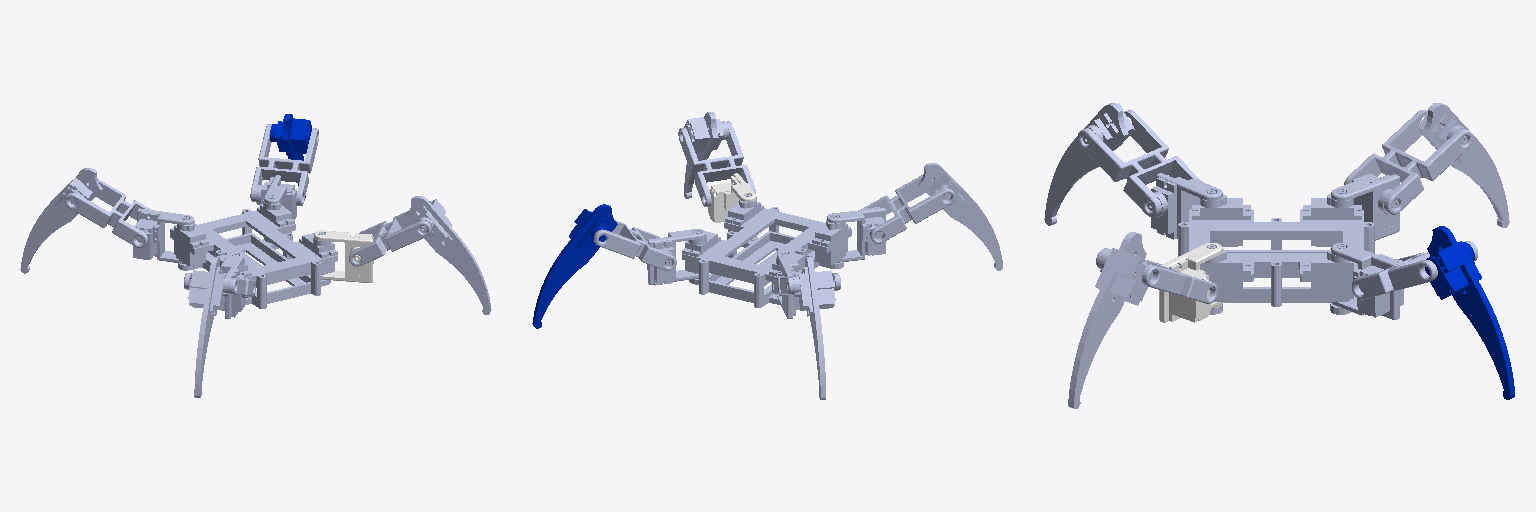
robot.urdf — spider1:
<?xml version="1.0" encoding="utf-8"?>
<!-- This URDF was automatically created by SolidWorks to URDF Exporter! Originally created by [author] ([email redacted]) 
     Commit Version: 1.6.0-4-g7f85cfe  Build Version: 1.6.7995.38578
     For more information, please see http://wiki.ros.org/sw_urdf_exporter -->
<robot
  name="spider1">
  <link
    name="base_link">
    <inertial>
      <origin
        xyz="0.0023278 0.00485 0.0023771"
        rpy="0 0 0" />
      <mass
        value="0.065616" />
      <inertia
        ixx="4.2481E-05"
        ixy="-5.904E-14"
        ixz="-3.5801E-22"
        iyy="2.1517E-05"
        iyz="1.9781E-09"
        izz="5.9904E-05" />
    </inertial>
    <visual>
      <origin
        xyz="0 0 0"
        rpy="0 0 0" />
      <geometry>
        <mesh
          filename="package://spider/meshes/base_link.STL" />
      </geometry>
      <material
        name="">
        <color
          rgba="0.79216 0.81961 0.93333 1" />
      </material>
    </visual>
    <collision>
      <origin
        xyz="0 0 0"
        rpy="0 0 0" />
      <geometry>
        <mesh
          filename="package://spider/meshes/base_link.STL" />
      </geometry>
    </collision>
  </link>
  <link
    name="f1">
    <inertial>
      <origin
        xyz="-0.018401 0.01659 0.003534"
        rpy="0 0 0" />
      <mass
        value="0.011831" />
      <inertia
        ixx="1.5646E-06"
        ixy="9.7054E-09"
        ixz="-3.045E-08"
        iyy="1.457E-06"
        iyz="-1.7785E-08"
        izz="1.0395E-06" />
    </inertial>
    <visual>
      <origin
        xyz="0 0 0"
        rpy="0 0 0" />
      <geometry>
        <mesh
          filename="package://spider/meshes/f1.STL" />
      </geometry>
      <material
        name="">
        <color
          rgba="0.79216 0.81961 0.93333 1" />
      </material>
    </visual>
    <collision>
      <origin
        xyz="0 0 0"
        rpy="0 0 0" />
      <geometry>
        <mesh
          filename="package://spider/meshes/f1.STL" />
      </geometry>
    </collision>
  </link>
  <joint
    name="f1_joint"
    type="revolute">
    <origin
      xyz="-0.033172 0.040513 0.0037238"
      rpy="0 0 0" />
    <parent
      link="base_link" />
    <child
      link="f1" />
    <axis
      xyz="0 0 -1" />
    <limit
      lower="-3.14"
      upper="3.14"
      effort="1"
      velocity="1" />
    <dynamics
      damping="1"
      friction="1" />
  </joint>
  <link
    name="f11">
    <inertial>
      <origin
        xyz="-0.00312800502450068 0.029304654512747 0.0109553755380737"
        rpy="0 0 0" />
      <mass
        value="0.00732061922605988" />
      <inertia
        ixx="1.89519682514823E-06"
        ixy="-4.81247392753302E-08"
        ixz="4.17488981091791E-07"
        iyy="1.90454664060193E-06"
        iyz="-4.74204996799255E-07"
        izz="3.0470393635977E-06" />
    </inertial>
    <visual>
      <origin
        xyz="0 0 0"
        rpy="0 0 0" />
      <geometry>
        <mesh
          filename="package://spider/meshes/f11.STL" />
      </geometry>
      <material
        name="">
        <color
          rgba="0.792156862745098 0.819607843137255 0.933333333333333 1" />
      </material>
    </visual>
    <collision>
      <origin
        xyz="0 0 0"
        rpy="0 0 0" />
      <geometry>
        <mesh
          filename="package://spider/meshes/f11.STL" />
      </geometry>
    </collision>
  </link>
  <joint
    name="f11_joint"
    type="revolute">
    <origin
      xyz="-0.03439 0.0063335 0.0084"
      rpy="0 0 0" />
    <parent
      link="f1" />
    <child
      link="f11" />
    <axis
      xyz="-0.74991 -0.66153 0" />
    <limit
      lower="-3.14"
      upper="3.14"
      effort="1"
      velocity="1" />
    <dynamics
      damping="1"
      friction="1" />
  </joint>
  <link
    name="f111">
    <inertial>
      <origin
        xyz="0.00700565537465488 0.0174495821523415 -0.0100072504512934"
        rpy="0 0 0" />
      <mass
        value="0.0131238915006959" />
      <inertia
        ixx="3.81248468902086E-06"
        ixy="4.89789117554809E-07"
        ixz="-1.09704738692261E-06"
        iyy="3.66531231134112E-06"
        iyz="1.33727196442167E-06"
        izz="1.95892271569825E-06" />
    </inertial>
    <visual>
      <origin
        xyz="0 0 0"
        rpy="0 0 0" />
      <geometry>
        <mesh
          filename="package://spider/meshes/f111.STL" />
      </geometry>
      <material
        name="">
        <color
          rgba="0.792156862745098 0.819607843137255 0.933333333333333 1" />
      </material>
    </visual>
    <collision>
      <origin
        xyz="0 0 0"
        rpy="0 0 0" />
      <geometry>
        <mesh
          filename="package://spider/meshes/f111.STL" />
      </geometry>
    </collision>
  </link>
  <joint
    name="f111_joint"
    type="revolute">
    <origin
      xyz="-0.03266 0.03793 0.022803"
      rpy="0 0 0" />
    <parent
      link="f11" />
    <child
      link="f111" />
    <axis
      xyz="0.74991 0.66153 0" />
    <limit
      lower="-3.14"
      upper="3.14"
      effort="1"
      velocity="1" />
    <dynamics
      damping="1"
      friction="1" />
  </joint>
  <link
    name="f2">
    <inertial>
      <origin
        xyz="0.0151948529255643 0.0194570105580934 -0.0150449894403129"
        rpy="0 0 0" />
      <mass
        value="0.0118214556601813" />
      <inertia
        ixx="1.56348678645003E-06"
        ixy="-1.19050069760458E-08"
        ixz="3.0571500046444E-08"
        iyy="1.45629734097349E-06"
        iyz="-1.85639441950684E-08"
        izz="1.03828177179975E-06" />
    </inertial>
    <visual>
      <origin
        xyz="0 0 0"
        rpy="0 0 0" />
      <geometry>
        <mesh
          filename="package://spider/meshes/f2.STL" />
      </geometry>
      <material
        name="">
        <color
          rgba="0.792156862745098 0.819607843137255 0.933333333333333 1" />
      </material>
    </visual>
    <collision>
      <origin
        xyz="0 0 0"
        rpy="0 0 0" />
      <geometry>
        <mesh
          filename="package://spider/meshes/f2.STL" />
      </geometry>
    </collision>
  </link>
  <joint
    name="f2_joint"
    type="revolute">
    <origin
      xyz="0.037828 0.040513 0.022299"
      rpy="0 0 0" />
    <parent
      link="base_link" />
    <child
      link="f2" />
    <axis
      xyz="0 0 1" />
    <limit
      lower="-3.14"
      upper="3.14"
      effort="1"
      velocity="1" />
    <dynamics
      damping="1"
      friction="1" />
  </joint>
  <link
    name="f22">
    <inertial>
      <origin
        xyz="0.00310211145807297 0.0287358528716765 0.0123772011765127"
        rpy="0 0 0" />
      <mass
        value="0.00732061922605988" />
      <inertia
        ixx="1.93264517468614E-06"
        ixy="8.78459053149969E-08"
        ixz="-4.65779598189396E-07"
        iyy="1.94666462959028E-06"
        iyz="-5.1314367047501E-07"
        izz="2.96747302507144E-06" />
    </inertial>
    <visual>
      <origin
        xyz="0 0 0"
        rpy="0 0 0" />
      <geometry>
        <mesh
          filename="package://spider/meshes/f22.STL" />
      </geometry>
      <material
        name="">
        <color
          rgba="0.792156862745098 0.819607843137255 0.933333333333333 1" />
      </material>
    </visual>
    <collision>
      <origin
        xyz="0 0 0"
        rpy="0 0 0" />
      <geometry>
        <mesh
          filename="package://spider/meshes/f22.STL" />
      </geometry>
    </collision>
  </link>
  <joint
    name="f22_joint"
    type="revolute">
    <origin
      xyz="0.029378 0.010453 -0.010175"
      rpy="0 0 0" />
    <parent
      link="f2" />
    <child
      link="f22" />
    <axis
      xyz="0.73977 -0.67286 0" />
    <limit
      lower="-3.14"
      upper="3.14"
      effort="1"
      velocity="1" />
    <dynamics
      damping="1"
      friction="1" />
  </joint>
  <link
    name="f222">
    <inertial>
      <origin
        xyz="-0.0070653 0.018088 -0.0098563"
        rpy="0 0 0" />
      <mass
        value="0.013124" />
      <inertia
        ixx="3.7708E-06"
        ixy="-5.2231E-07"
        ixz="1.132E-06"
        iyy="3.6455E-06"
        iyz="1.3363E-06"
        izz="2.0204E-06" />
    </inertial>
    <visual>
      <origin
        xyz="0 0 0"
        rpy="0 0 0" />
      <geometry>
        <mesh
          filename="package://spider/meshes/f222.STL" />
      </geometry>
      <material
        name="">
        <color
          rgba="0.0078431 0.23922 0.82353 1" />
      </material>
    </visual>
    <collision>
      <origin
        xyz="0 0 0"
        rpy="0 0 0" />
      <geometry>
        <mesh
          filename="package://spider/meshes/f222.STL" />
      </geometry>
    </collision>
  </link>
  <joint
    name="f222_joint"
    type="revolute">
    <origin
      xyz="0.032696 0.035948 0.025763"
      rpy="0 0 0" />
    <parent
      link="f22" />
    <child
      link="f222" />
    <axis
      xyz="0.73977 -0.67286 0" />
    <limit
      lower="-3.14"
      upper="3.14"
      effort="1"
      velocity="1" />
    <dynamics
      damping="1"
      friction="1" />
  </joint>
  <link
    name="b1">
    <inertial>
      <origin
        xyz="-0.0160637632179106 -0.018746048290921 0.00495501051265646"
        rpy="0 0 0" />
      <mass
        value="0.0118214555384042" />
      <inertia
        ixx="1.56218378004245E-06"
        ixy="-1.67241701079202E-08"
        ixz="-2.9695871646277E-08"
        iyy="1.45760030760269E-06"
        iyz="1.99346925009862E-08"
        izz="1.03828176417558E-06" />
    </inertial>
    <visual>
      <origin
        xyz="0 0 0"
        rpy="0 0 0" />
      <geometry>
        <mesh
          filename="package://spider/meshes/b1.STL" />
      </geometry>
      <material
        name="">
        <color
          rgba="0.792156862745098 0.819607843137255 0.933333333333333 1" />
      </material>
    </visual>
    <collision>
      <origin
        xyz="0 0 0"
        rpy="0 0 0" />
      <geometry>
        <mesh
          filename="package://spider/meshes/b1.STL" />
      </geometry>
    </collision>
  </link>
  <joint
    name="b1_joint"
    type="revolute">
    <origin
      xyz="-0.033172 -0.030487 0.0022988"
      rpy="0 0 0" />
    <parent
      link="base_link" />
    <child
      link="b1" />
    <axis
      xyz="0 0 1" />
    <limit
      lower="-3.14"
      upper="3.14"
      effort="1"
      velocity="1" />
    <dynamics
      damping="1"
      friction="1" />
  </joint>
  <link
    name="b11">
    <inertial>
      <origin
        xyz="-0.028205 -0.0055557 0.011389"
        rpy="0 0 0" />
      <mass
        value="0.0073206" />
      <inertia
        ixx="1.9126E-06"
        ixy="5.9968E-08"
        ixz="4.5922E-07"
        iyy="1.9104E-06"
        iyz="4.6184E-07"
        izz="3.0238E-06" />
    </inertial>
    <visual>
      <origin
        xyz="0 0 0"
        rpy="0 0 0" />
      <geometry>
        <mesh
          filename="package://spider/meshes/b11.STL" />
      </geometry>
      <material
        name="">
        <color
          rgba="0.79216 0.81961 0.93333 1" />
      </material>
    </visual>
    <collision>
      <origin
        xyz="0 0 0"
        rpy="0 0 0" />
      <geometry>
        <mesh
          filename="package://spider/meshes/b11.STL" />
      </geometry>
    </collision>
  </link>
  <joint
    name="b11_joint"
    type="revolute">
    <origin
      xyz="-0.0063746 -0.032468 0.009825"
      rpy="0 0 0" />
    <parent
      link="b1" />
    <child
      link="b11" />
    <axis
      xyz="-0.70841 0.7058 0" />
    <limit
      lower="-3.14"
      upper="3.14"
      effort="1"
      velocity="1" />
    <dynamics
      damping="1"
      friction="1" />
  </joint>
  <link
    name="b111">
    <inertial>
      <origin
        xyz="-0.0171462112923383 0.0050386067181125 -0.00993818888067149"
        rpy="0 0 0" />
      <mass
        value="0.0131238943670332" />
      <inertia
        ixx="3.73910124940875E-06"
        ixy="-5.09192749678692E-07"
        ixz="-1.18341224274172E-06"
        iyy="3.71049698439754E-06"
        iyz="-1.27544845268077E-06"
        izz="1.98712199995714E-06" />
    </inertial>
    <visual>
      <origin
        xyz="0 0 0"
        rpy="0 0 0" />
      <geometry>
        <mesh
          filename="package://spider/meshes/b111.STL" />
      </geometry>
      <material
        name="">
        <color
          rgba="0.792156862745098 0.819607843137255 0.933333333333333 1" />
      </material>
    </visual>
    <collision>
      <origin
        xyz="0 0 0"
        rpy="0 0 0" />
      <geometry>
        <mesh
          filename="package://spider/meshes/b111.STL" />
      </geometry>
    </collision>
  </link>
  <joint
    name="b111_joint"
    type="revolute">
    <origin
      xyz="-0.035028 -0.035157 0.023707"
      rpy="0 0 0" />
    <parent
      link="b11" />
    <child
      link="b111" />
    <axis
      xyz="-0.70841 0.7058 0" />
    <limit
      lower="-3.14"
      upper="3.14"
      effort="1"
      velocity="1" />
    <dynamics
      damping="1"
      friction="1" />
  </joint>
  <link
    name="b2">
    <inertial>
      <origin
        xyz="0 0 0"
        rpy="0 0 0" />
      <mass
        value="0" />
      <inertia
        ixx="0"
        ixy="0"
        ixz="0"
        iyy="0"
        iyz="0"
        izz="0" />
    </inertial>
    <visual>
      <origin
        xyz="0 0 0"
        rpy="0 0 0" />
      <geometry>
        <mesh
          filename="package://spider/meshes/b2.STL" />
      </geometry>
      <material
        name="">
        <color
          rgba="1 1 1 1" />
      </material>
    </visual>
    <collision>
      <origin
        xyz="0 0 0"
        rpy="0 0 0" />
      <geometry>
        <mesh
          filename="package://spider/meshes/b2.STL" />
      </geometry>
    </collision>
  </link>
  <joint
    name="b2_joint"
    type="revolute">
    <origin
      xyz="0.037828 -0.030487 0.022299"
      rpy="0 0 0" />
    <parent
      link="base_link" />
    <child
      link="b2" />
    <axis
      xyz="0 0 -1" />
    <limit
      lower="-3.14"
      upper="3.14"
      effort="1"
      velocity="1" />
    <dynamics
      damping="1"
      friction="1" />
  </joint>
  <link
    name="b22">
    <inertial>
      <origin
        xyz="0.027923 -0.0027666 0.012991"
        rpy="0 0 0" />
      <mass
        value="0.0073206" />
      <inertia
        ixx="1.9761E-06"
        ixy="-1.0533E-07"
        ixz="-5.4409E-07"
        iyy="1.9406E-06"
        iyz="4.6686E-07"
        izz="2.9301E-06" />
    </inertial>
    <visual>
      <origin
        xyz="0 0 0"
        rpy="0 0 0" />
      <geometry>
        <mesh
          filename="package://spider/meshes/b22.STL" />
      </geometry>
      <material
        name="">
        <color
          rgba="0.79216 0.81961 0.93333 1" />
      </material>
    </visual>
    <collision>
      <origin
        xyz="0 0 0"
        rpy="0 0 0" />
      <geometry>
        <mesh
          filename="package://spider/meshes/b22.STL" />
      </geometry>
    </collision>
  </link>
  <joint
    name="b22_joint"
    type="revolute">
    <origin
      xyz="0.013409 -0.026621 -0.010175"
      rpy="0 0 0" />
    <parent
      link="b2" />
    <child
      link="b22" />
    <axis
      xyz="0.65041 0.75958 0" />
    <limit
      lower="-3.14"
      upper="3.14"
      effort="1"
      velocity="1" />
    <dynamics
      damping="1"
      friction="1" />
  </joint>
  <link
    name="b222">
    <inertial>
      <origin
        xyz="0.016762 0.0063204 -0.0098613"
        rpy="0 0 0" />
      <mass
        value="0.013124" />
      <inertia
        ixx="3.6412E-06"
        ixy="5.2062E-07"
        ixz="1.2888E-06"
        iyy="3.7771E-06"
        iyz="-1.1848E-06"
        izz="2.0184E-06" />
    </inertial>
    <visual>
      <origin
        xyz="0 0 0"
        rpy="0 0 0" />
      <geometry>
        <mesh
          filename="package://spider/meshes/b222.STL" />
      </geometry>
      <material
        name="">
        <color
          rgba="0.79216 0.81961 0.93333 1" />
      </material>
    </visual>
    <collision>
      <origin
        xyz="0 0 0"
        rpy="0 0 0" />
      <geometry>
        <mesh
          filename="package://spider/meshes/b222.STL" />
      </geometry>
    </collision>
  </link>
  <joint
    name="b222_joint"
    type="revolute">
    <origin
      xyz="0.036379 -0.03115 0.027042"
      rpy="0 0 0" />
    <parent
      link="b22" />
    <child
      link="b222" />
    <axis
      xyz="0.65041 0.75958 0" />
    <limit
      lower="-3.14"
      upper="3.14"
      effort="1"
      velocity="1" />
    <dynamics
      damping="1"
      friction="1" />
  </joint>
</robot>

--- Render facts (derived) ---
3 views of the same robot in one strip: view 1: azimuth 30°, elevation 25°; view 2: azimuth 150°, elevation 25°; view 3: azimuth 270°, elevation 25° (orthographic).
Robot: spider1 — 13 links, 12 joints (12 revolute); root link base_link; default pose: every joint at zero.
Links seen in each view (by area): view 1: base_link, b222, b111, f111, f11, f22, b22, f1, b2, f222, f2, b1 (+1 smaller); view 2: base_link, f222, b111, f111, b11, b22, f22, b1, b222, f2, b2, f1; view 3: base_link, f222, b222, f11, b11, f111, b111, b1, f2, f1, b2, f22 (+1 smaller).
Boxes of the visible links, x1,y1,x2,y2 form: base_link: (170, 196, 337, 308); b222: (405, 196, 491, 314); b111: (188, 257, 235, 397); f111: (20, 168, 102, 273); f11: (65, 179, 150, 247); f22: (250, 124, 318, 205); b22: (349, 201, 431, 266); f1: (133, 208, 193, 263); b2: (314, 230, 373, 282); f222: (270, 114, 311, 197); f2: (255, 175, 296, 242); b1: (221, 252, 253, 318); base_link: (682, 194, 851, 307); f222: (532, 204, 617, 328); b111: (918, 163, 1002, 270); f111: (793, 256, 835, 399); b11: (863, 175, 955, 243); b22: (678, 121, 755, 206); f22: (590, 211, 676, 270); b1: (827, 207, 885, 262); b222: (684, 112, 728, 198); f2: (647, 229, 705, 285); b2: (708, 173, 756, 240); f1: (777, 250, 801, 318); base_link: (1178, 190, 1374, 314); f222: (1425, 226, 1514, 399); b222: (1068, 232, 1152, 408); f11: (1344, 110, 1472, 214); b11: (1078, 110, 1200, 216); f111: (1417, 103, 1509, 227); b111: (1044, 103, 1134, 225); b1: (1147, 173, 1222, 239); f2: (1331, 243, 1403, 319); f1: (1331, 174, 1399, 240); b2: (1159, 243, 1222, 322); f22: (1352, 241, 1477, 299).
Bounding box of the posed robot: 0.2518 × 0.2568 × 0.0926 m (x, y, z).
Meshes: 13 distinct files referenced, 13 mesh visuals loaded (13 binary STL).